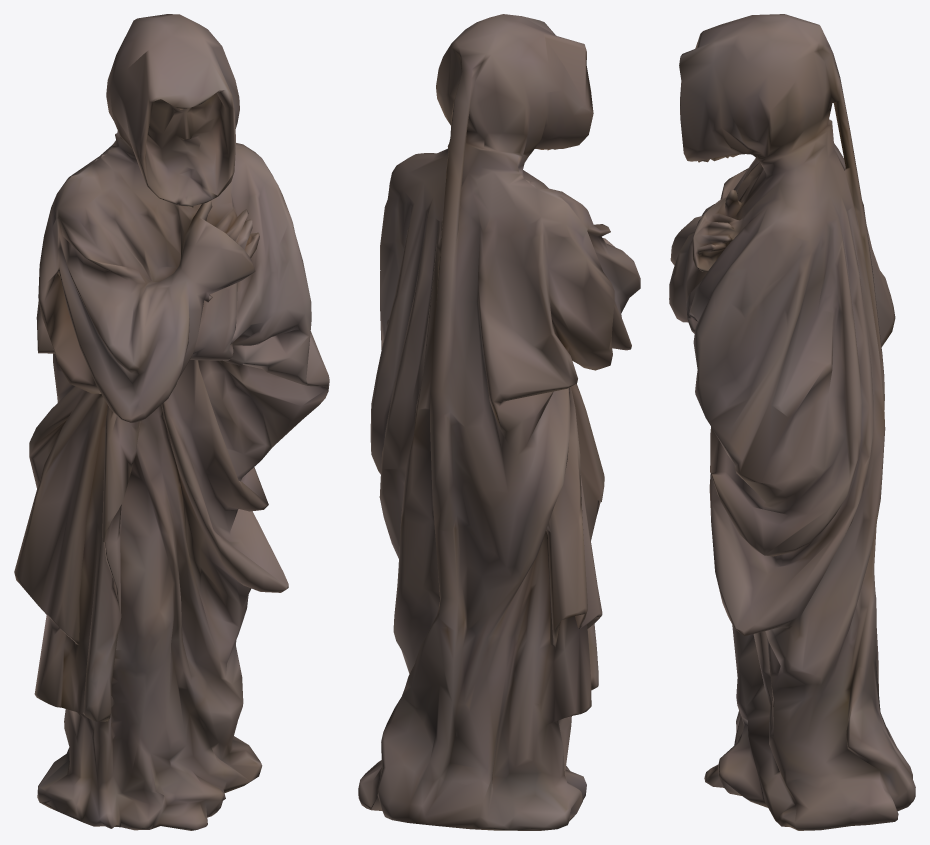
The model's file is hooded-mourner.glb.
3 renders of one model, left to right at view 1: azimuth 30°, elevation 25°; view 2: azimuth 150°, elevation 25°; view 3: azimuth 270°, elevation 25°, orthographic. The views are drawn at different scales.
Visible parts, largest first — view 1: body; view 2: body; view 3: body.
Part boxes in pixels (<box>): body: <box>14,14,329,830</box>; body: <box>358,14,640,830</box>; body: <box>669,14,915,830</box>.
Size of what is drawn, in the model's own units: 0.335 by 0.949 by 0.2771.
